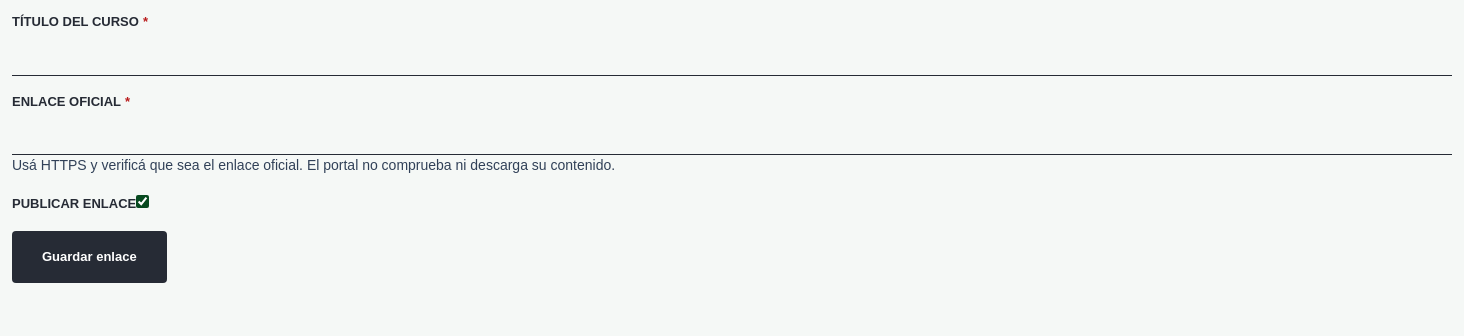
Test: course links and municipal referral forms › sends entered metadata and an explicit publication flag
In the field labelled "Título del curso*": [732, 54] box [12, 32, 1452, 76], type "Curso municipal ficticio"
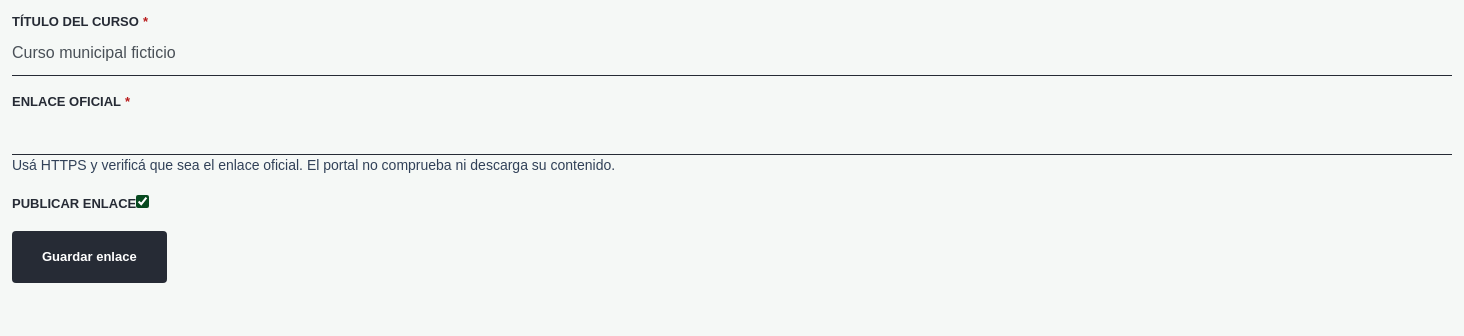
In the field labelled "Enlace oficial*": [732, 133] box [12, 111, 1452, 155], type "https://funes.gob.ar/curso"
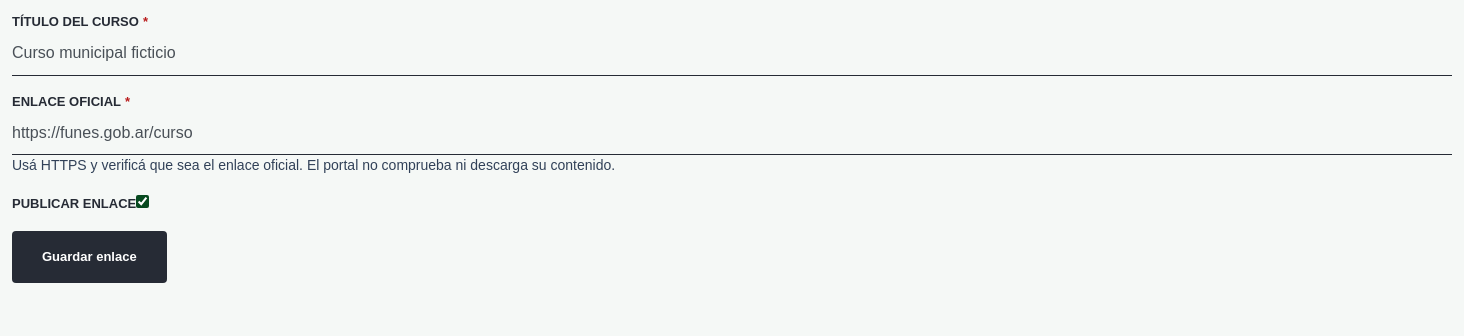
Click the button "Guardar enlace": [89, 257] box [12, 231, 167, 282]
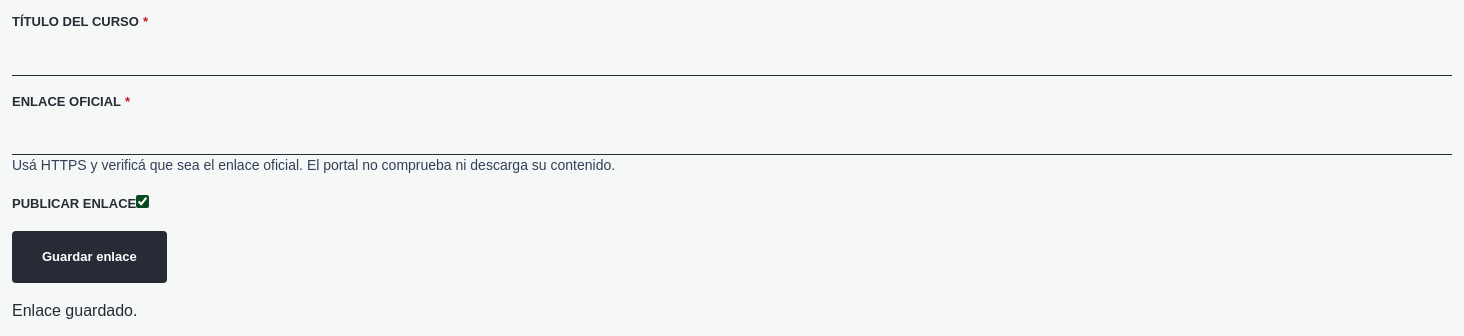
Expected: the text "Enlace guardado." is shown, [12, 302, 137, 318]
